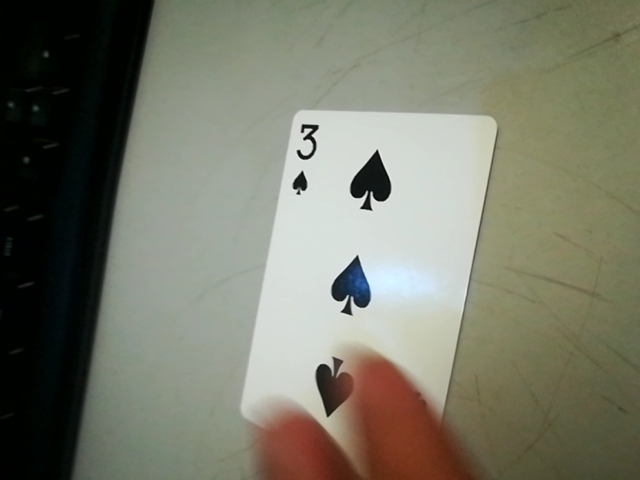ht 3: (282, 117, 328, 198)
